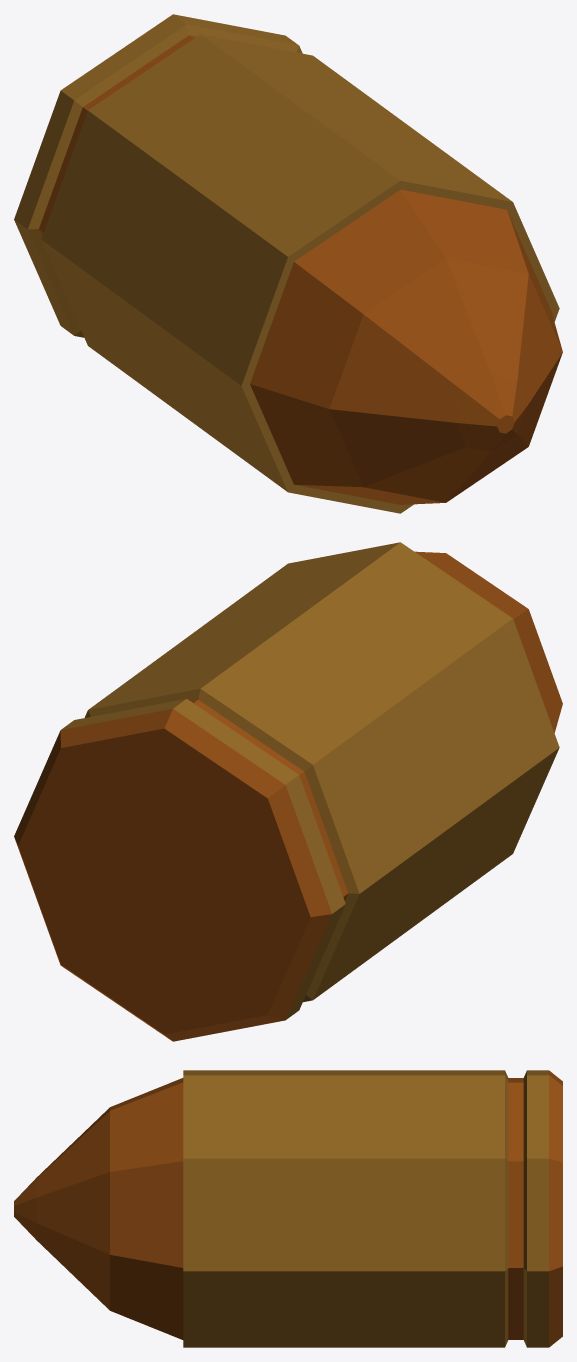
The model's file is 9mm Bullet.fbx.
3 renders of one model, top to bottom at view 1: azimuth 30°, elevation 25°; view 2: azimuth 150°, elevation 25°; view 3: azimuth 270°, elevation 25°, orthographic. The views are drawn at different scales.
Visible parts, largest first — view 1: 9mm Bullet; view 2: 9mm Bullet; view 3: 9mm Bullet.
Boxes of the visible parts, x1,y1,x2,y2 form: 9mm Bullet: [14, 14, 562, 513]; 9mm Bullet: [14, 542, 562, 1041]; 9mm Bullet: [14, 1070, 562, 1347].
Bounding box in the file's own units: 0.0163 × 0.0163 × 0.0304.
